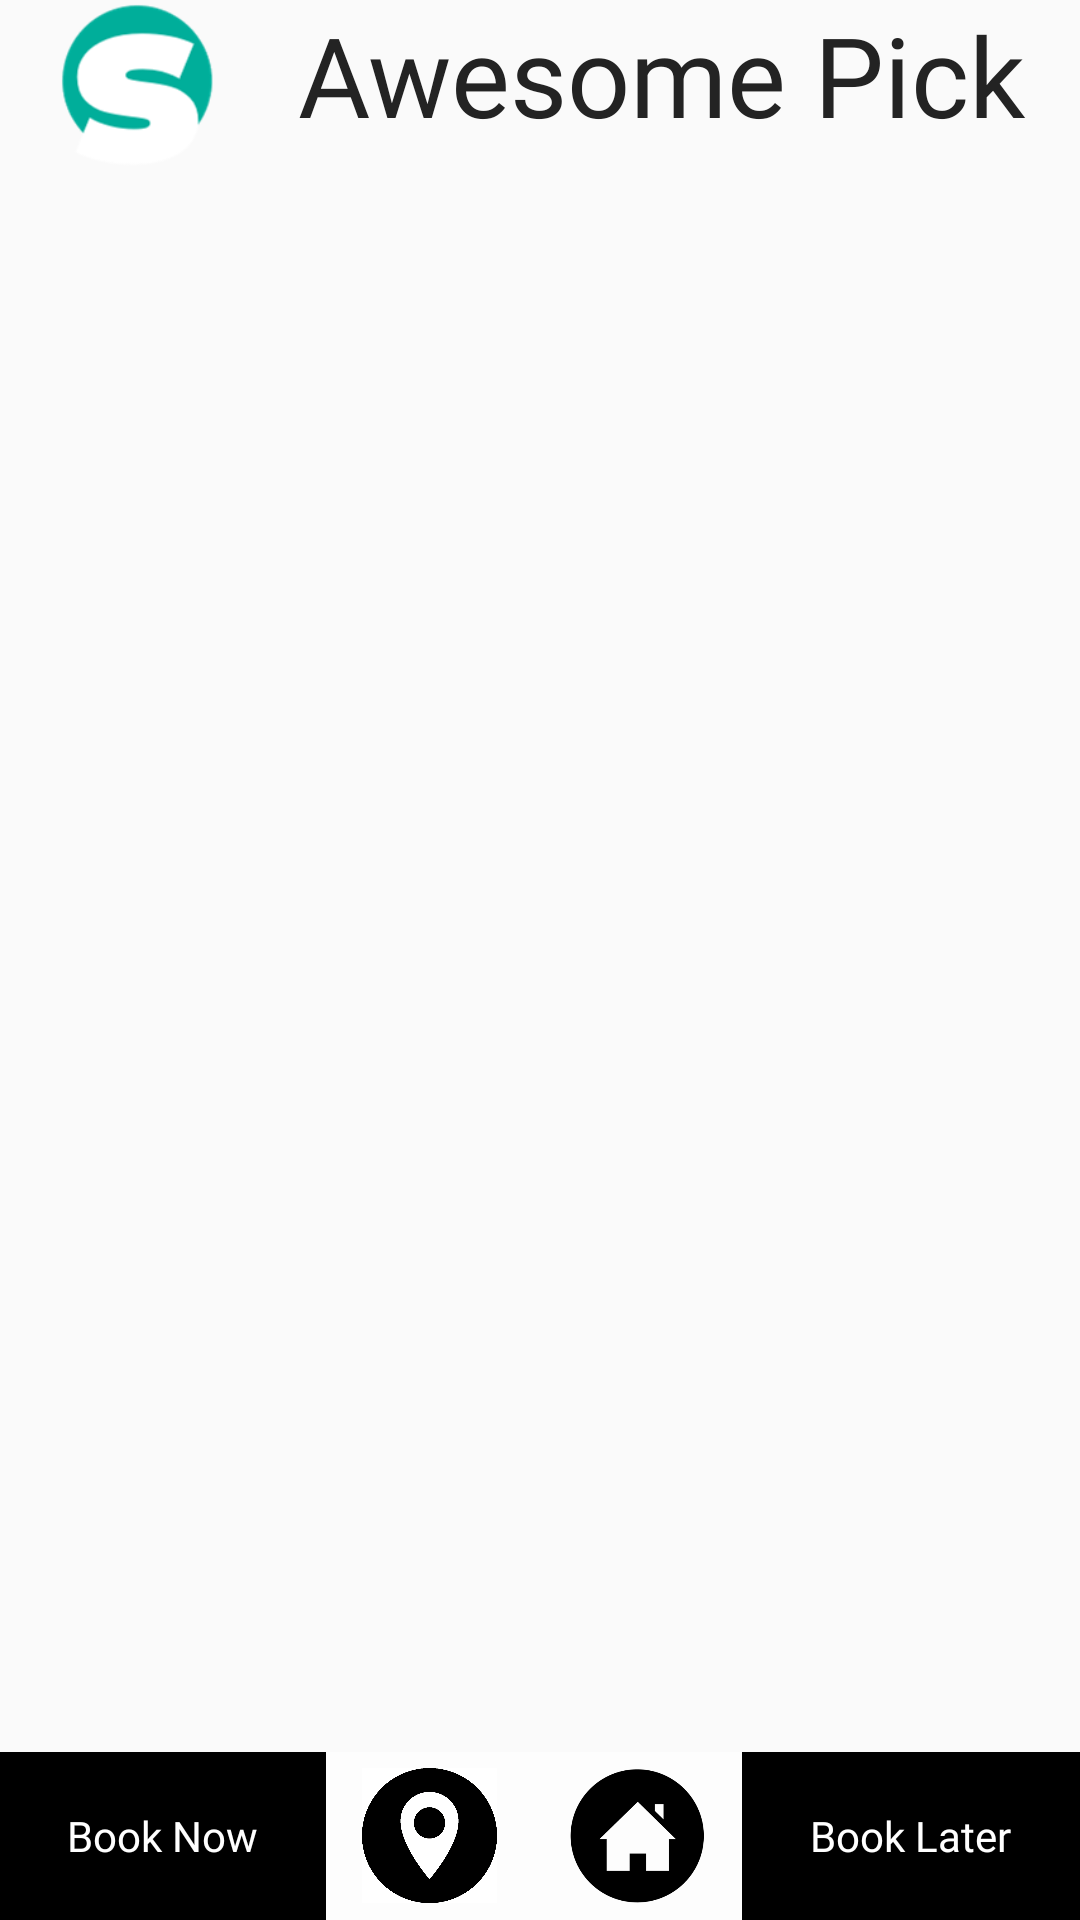

Icons on this 1080×1920 Android screen, each with the point to tap as point (x, y):
home: point (637, 1836)
map: point (429, 1835)
